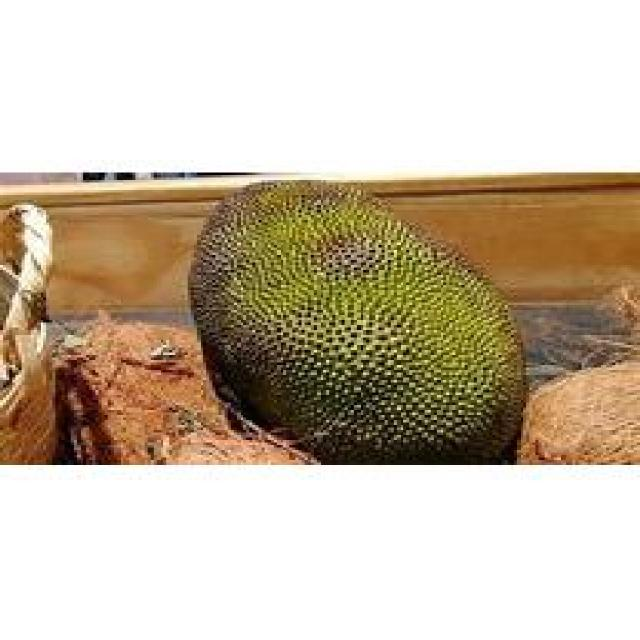Fruit: (172, 170, 551, 465)
